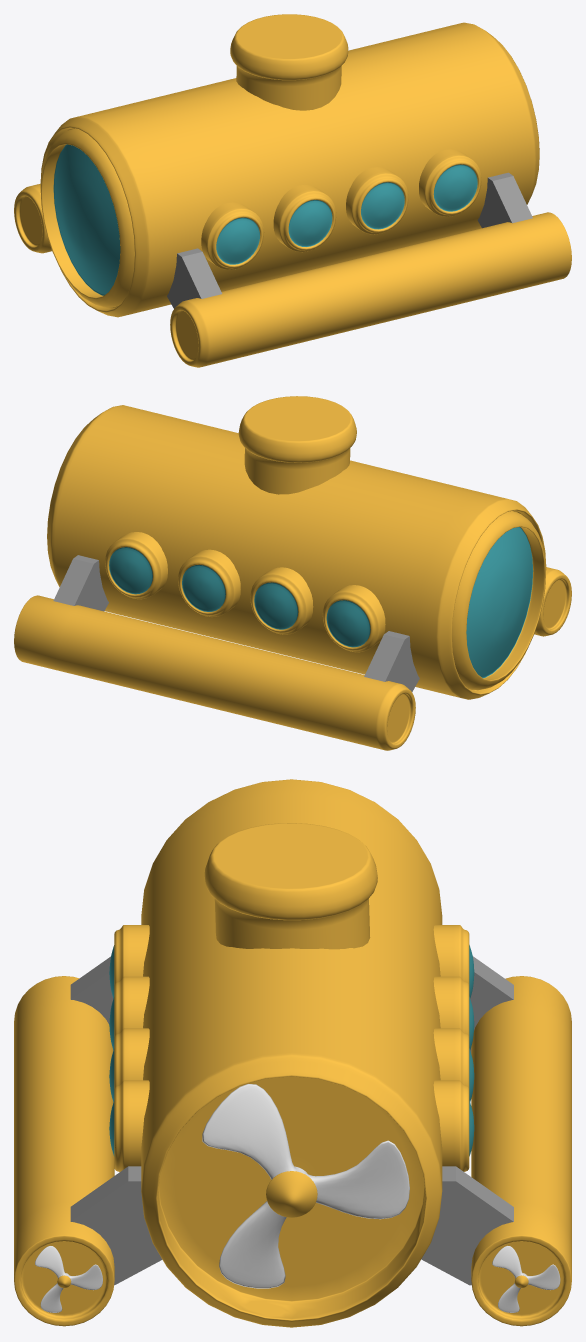
Rendered from HighPolySub.FBX.
3 renders of one model, top to bottom at view 1: azimuth 30°, elevation 25°; view 2: azimuth 150°, elevation 25°; view 3: azimuth 270°, elevation 25°, orthographic. The views are drawn at different scales.
Parts seen in each view (by area): view 1: SubBody, BallastTankLeft, Connection, BallastTankRight; view 2: SubBody, BallastTankRight, Connection, BallastTankLeft; view 3: SubBody, BallastTankRight, BallastTankLeft, Connection, PropellerMain, PropellerRight002, PropellerLeft.
Boxes of the visible parts, x1,y1,x2,y2 form: SubBody: (40,14,539,317); BallastTankLeft: (170,212,571,367); Connection: (167,172,532,308); BallastTankRight: (14,183,51,253); SubBody: (47,396,546,699); BallastTankRight: (14,595,415,750); Connection: (53,555,419,692); BallastTankLeft: (534,567,571,636); SubBody: (109,779,474,1327); BallastTankRight: (471,976,571,1326); BallastTankLeft: (14,976,114,1326); Connection: (70,956,513,1285); PropellerMain: (202,1084,409,1288); PropellerRight002: (492,1245,560,1312); PropellerLeft: (35,1246,102,1312).
Bounding box in the file's own units: 68.25 × 35.66 × 53.68.
